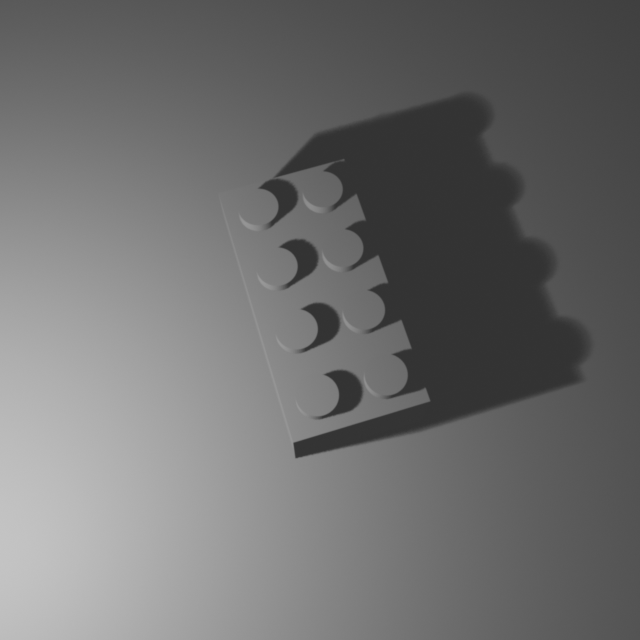lego_2x4: (217, 152, 432, 459)
